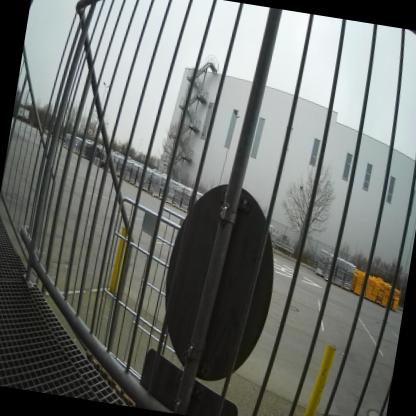pallet: (313, 269, 325, 278), (323, 276, 334, 285), (178, 206, 187, 214), (340, 284, 350, 291), (332, 282, 342, 288), (165, 199, 173, 206), (152, 192, 159, 200), (171, 203, 180, 209), (139, 186, 148, 192), (134, 182, 141, 189), (122, 177, 130, 183), (158, 196, 165, 202), (129, 180, 135, 186), (149, 191, 154, 196)
